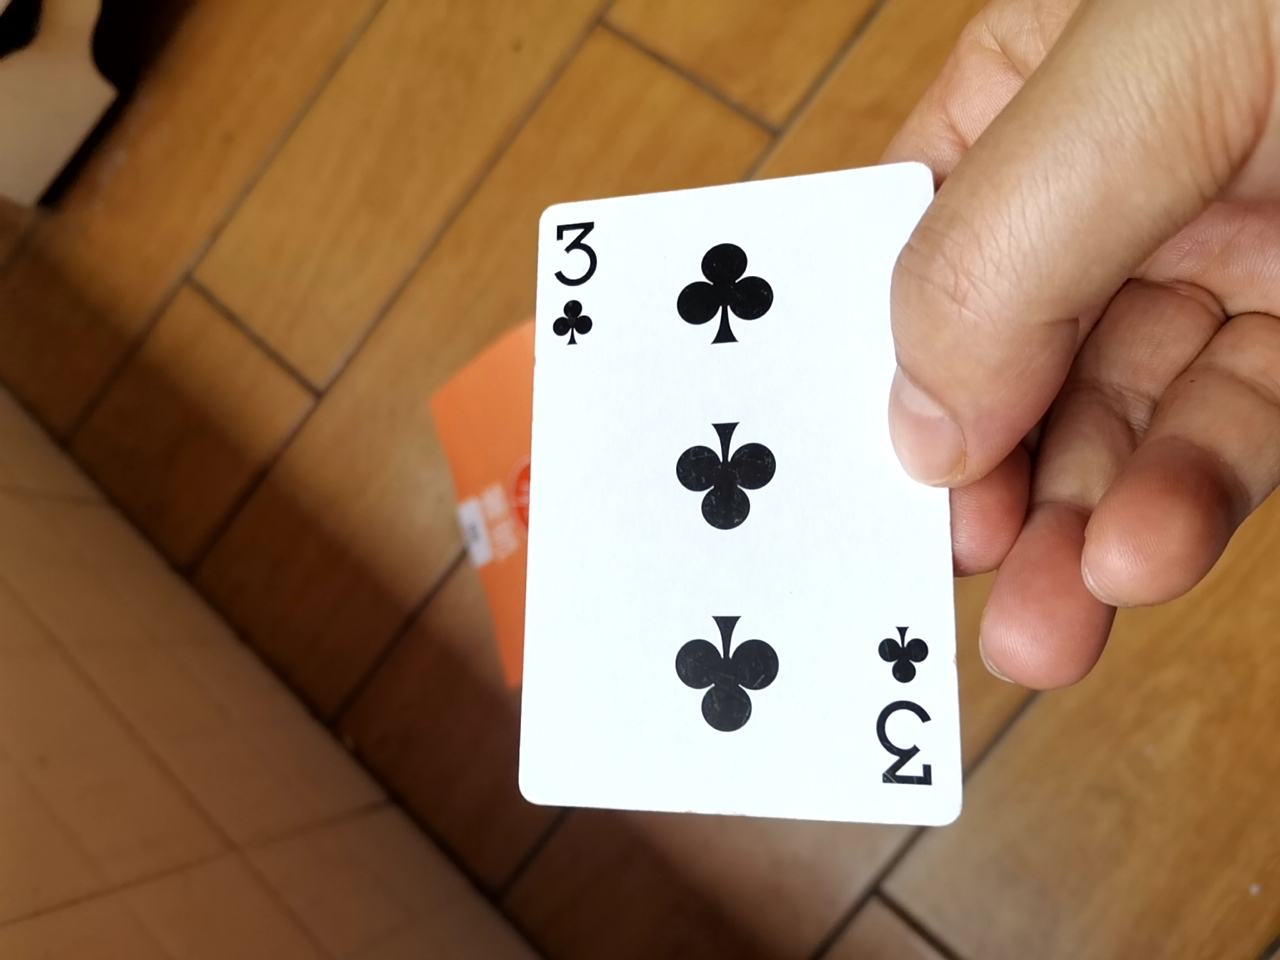mh 3: (489, 179, 973, 812)
